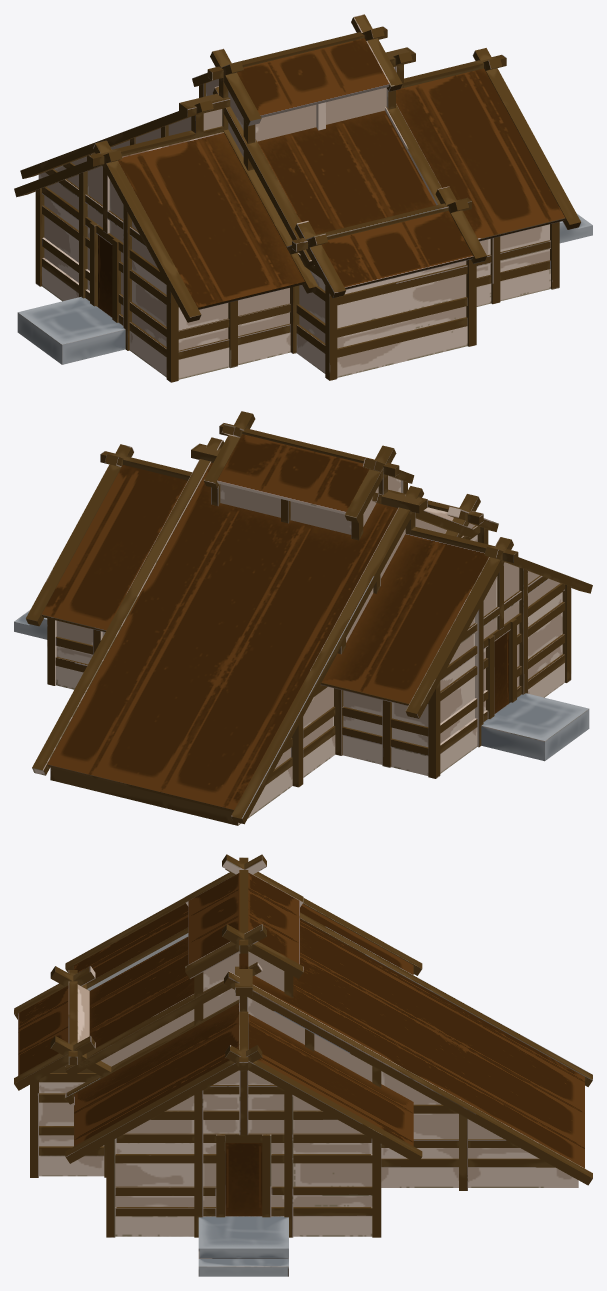
File: CasaGrande.fbx
The picture shows the model from 3 angles, top to bottom: view 1: azimuth 30°, elevation 25°; view 2: azimuth 150°, elevation 25°; view 3: azimuth 270°, elevation 25°; orthographic projection.
Parts seen in each view (by area): view 1: casagrande_low; view 2: casagrande_low; view 3: casagrande_low.
Part boxes in pixels (x1,y1,x2,y2): casagrande_low: (14,14,592,382); casagrande_low: (14,411,592,825); casagrande_low: (14,854,592,1276).
Size of the model in its own units: 1380 by 612 by 1286.
